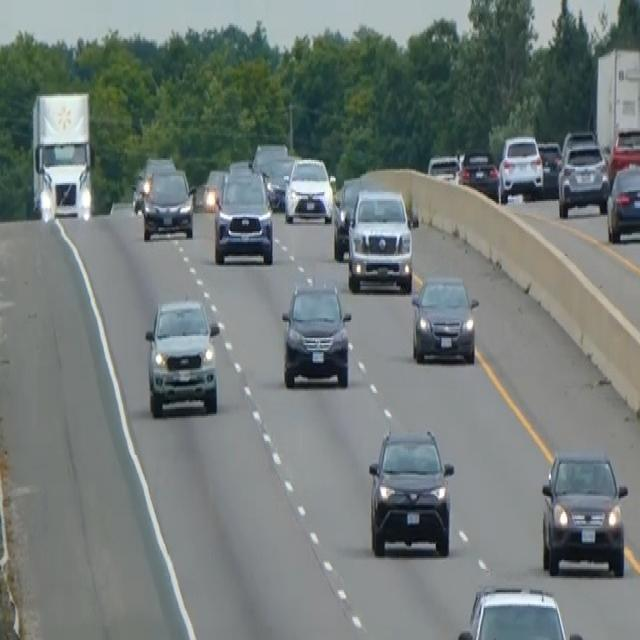car: (367, 425, 455, 558), (539, 448, 628, 578), (143, 295, 220, 418), (280, 278, 352, 390), (455, 582, 586, 638), (346, 187, 414, 293), (410, 272, 479, 364), (213, 165, 274, 265), (557, 137, 609, 217), (140, 165, 195, 240), (283, 155, 333, 224), (498, 133, 543, 199), (331, 174, 365, 260), (605, 160, 639, 242), (131, 153, 175, 213), (459, 146, 500, 199), (607, 125, 639, 183), (263, 154, 294, 210), (537, 138, 562, 196), (251, 139, 287, 174), (202, 166, 228, 212), (427, 151, 460, 183)
lorry: (29, 87, 95, 224)
